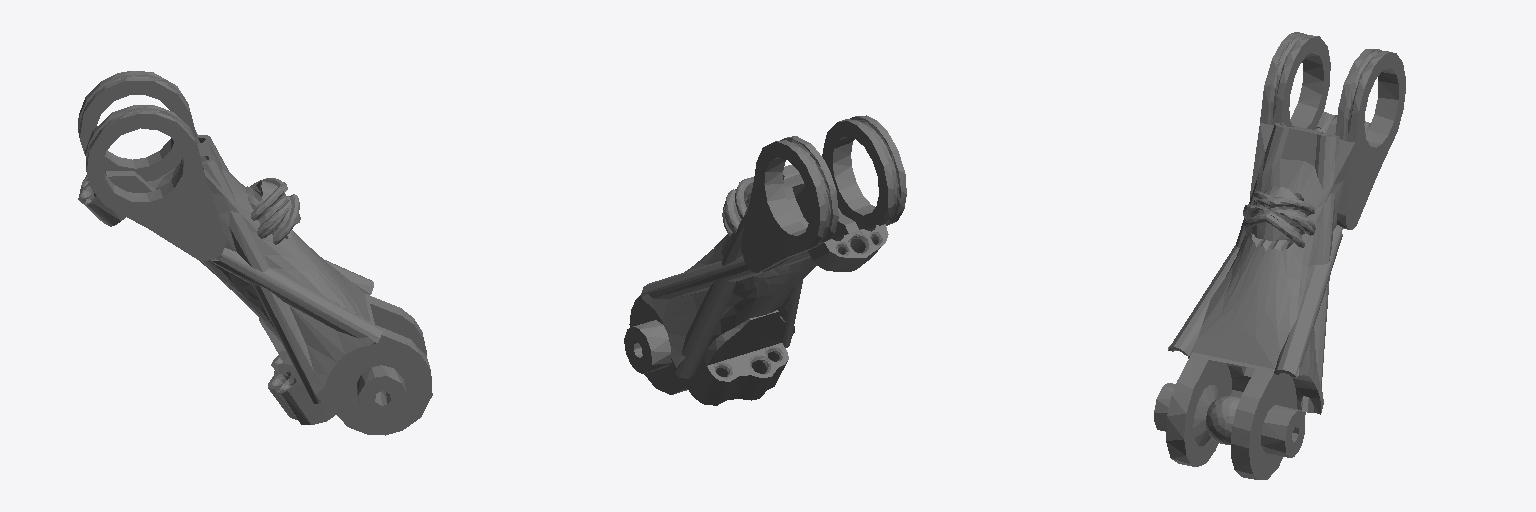
Rendered from hand_finger3-a.obj.
3 renders of one model, left to right at view 1: azimuth 30°, elevation 25°; view 2: azimuth 150°, elevation 25°; view 3: azimuth 270°, elevation 25°, orthographic.
Parts seen in each view (by area): view 1: finger3-a; view 2: finger3-a; view 3: finger3-a.
Part boxes in pixels (bbox=[...]): finger3-a: bbox=[78, 71, 432, 435]; finger3-a: bbox=[624, 115, 906, 405]; finger3-a: bbox=[1154, 32, 1405, 479].
Size of the model in its own units: 0.1312 by 0.1354 by 0.0929.